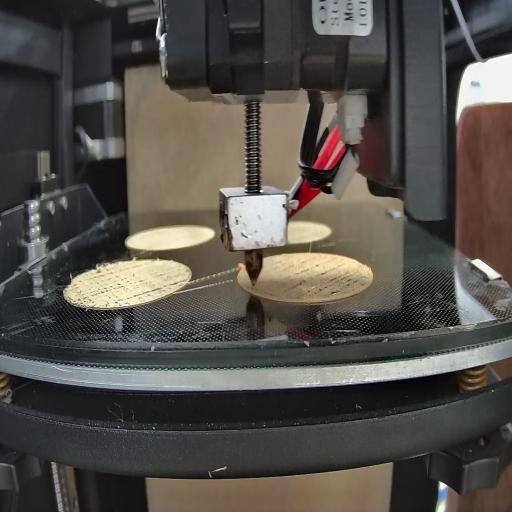under_extrusion: (67, 262, 164, 308), (275, 254, 370, 298), (167, 272, 187, 294)
